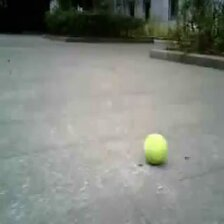tennis: (145, 134, 167, 164)
